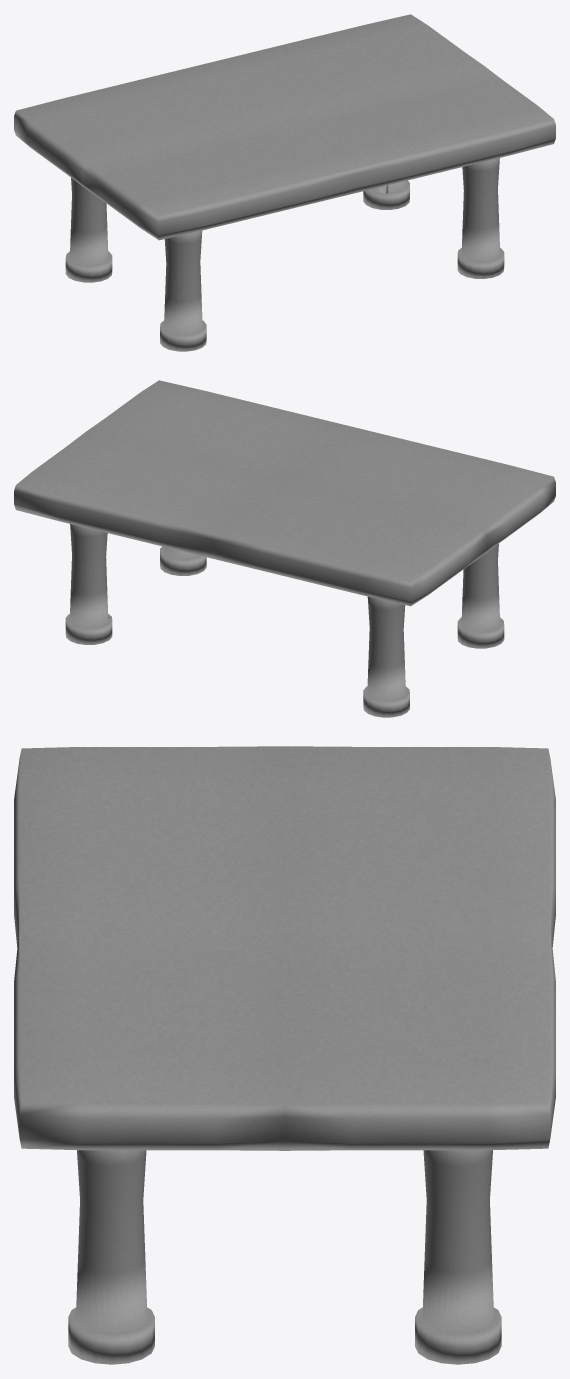
File: MetalTable.fbx
3 views of the same model, one above another, from view 1: azimuth 30°, elevation 25°; view 2: azimuth 150°, elevation 25°; view 3: azimuth 270°, elevation 25° (orthographic). The views are drawn at different scales.
Visible parts, largest first — view 1: Cube; view 2: Cube; view 3: Cube.
Part boxes in pixels (bbox=[...]): Cube: bbox=[14, 14, 555, 351]; Cube: bbox=[14, 380, 555, 717]; Cube: bbox=[14, 746, 555, 1364].
Bounding box in the file's own units: 529 × 195 × 332.
